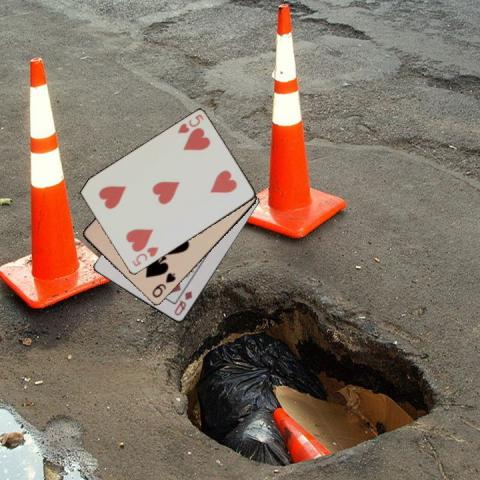5h: (174, 111, 204, 136), (129, 244, 160, 268)
9s: (149, 270, 177, 299)
Qd: (171, 288, 194, 317)
